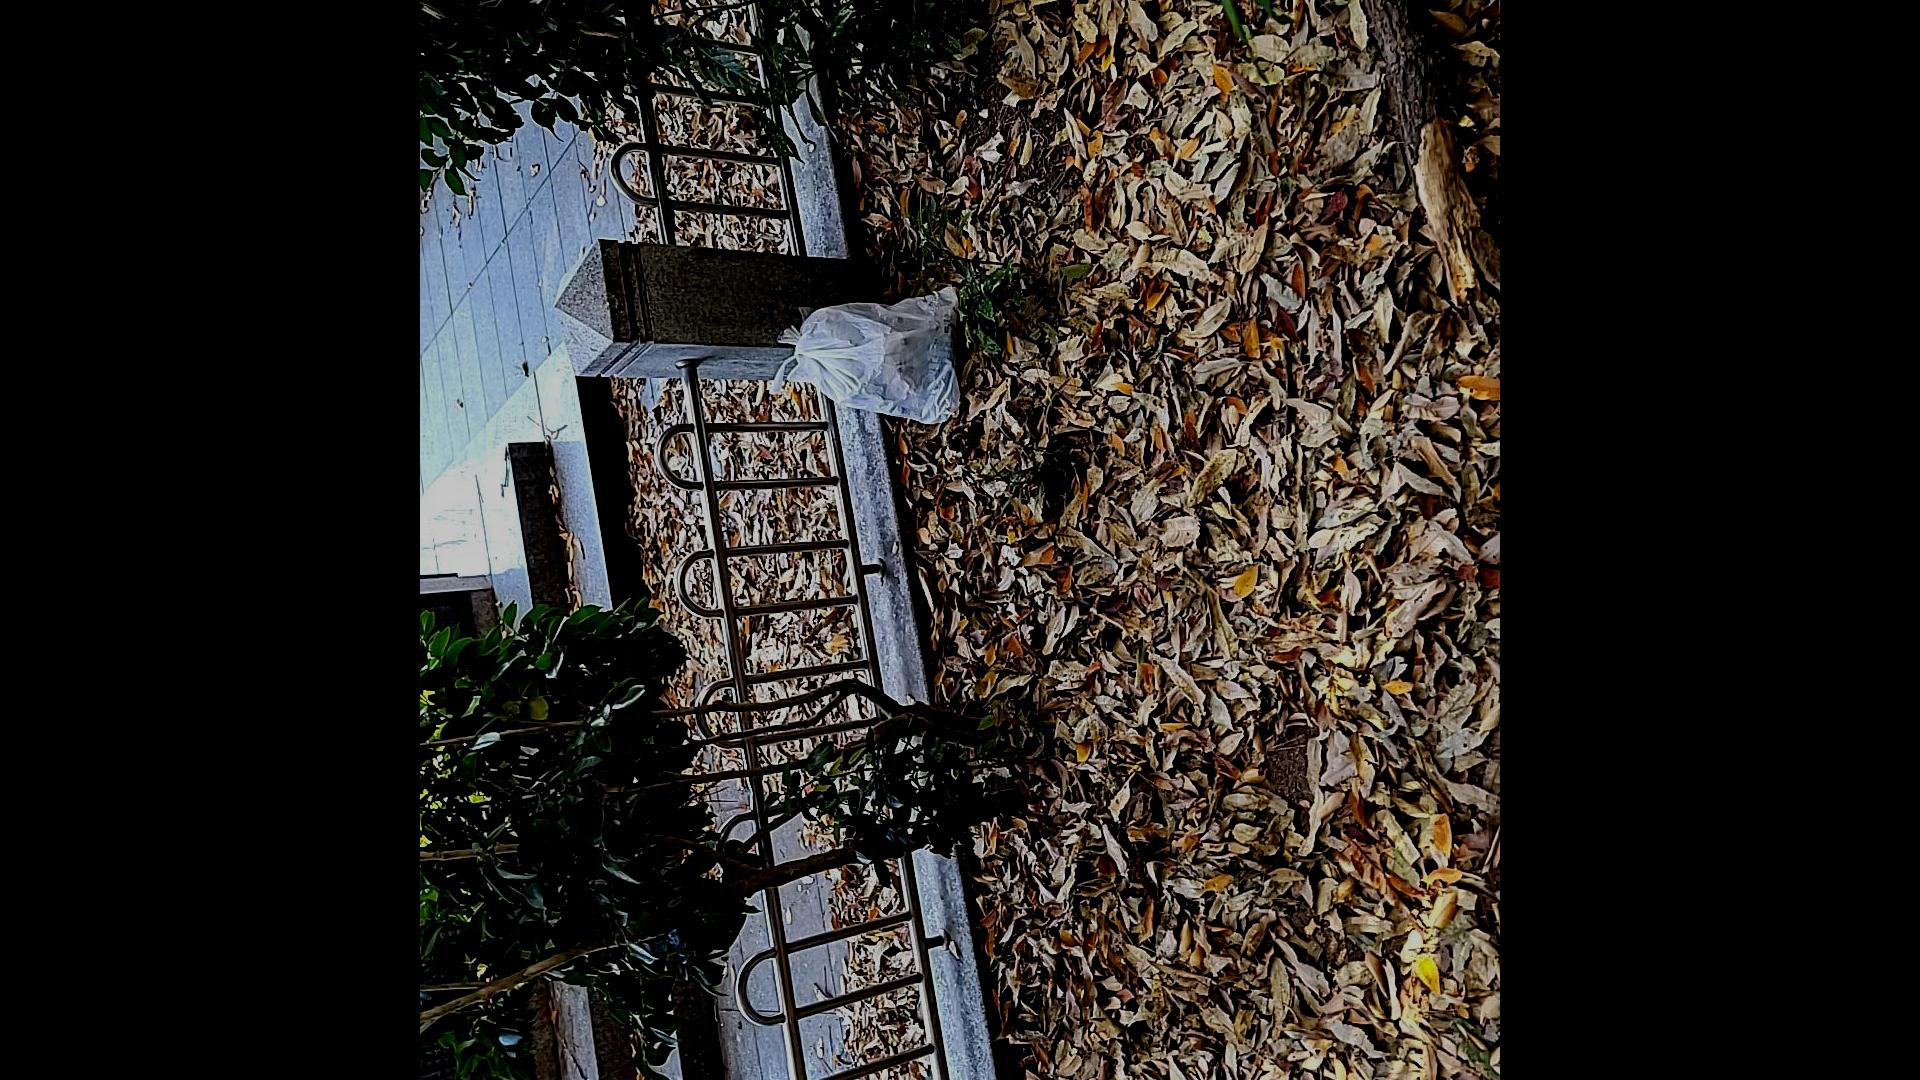white_bag: (775, 276, 976, 433)
